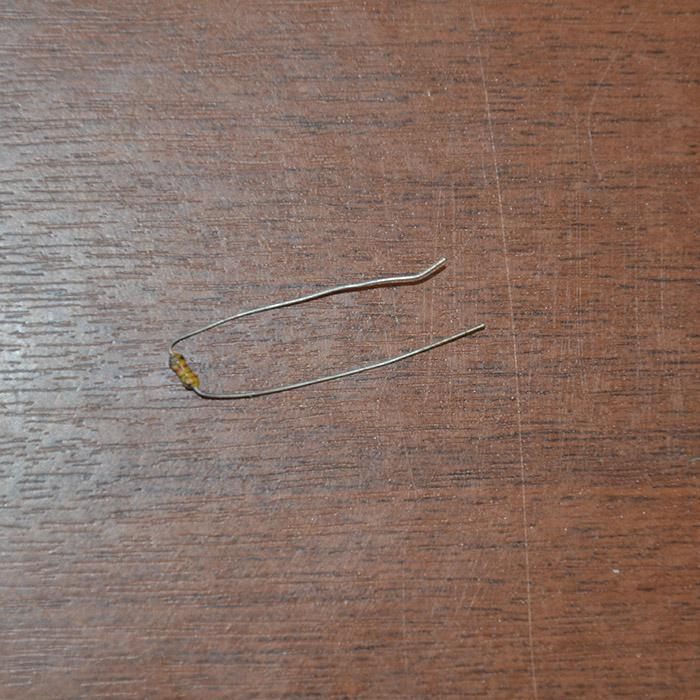resistor: (166, 350, 201, 395)
